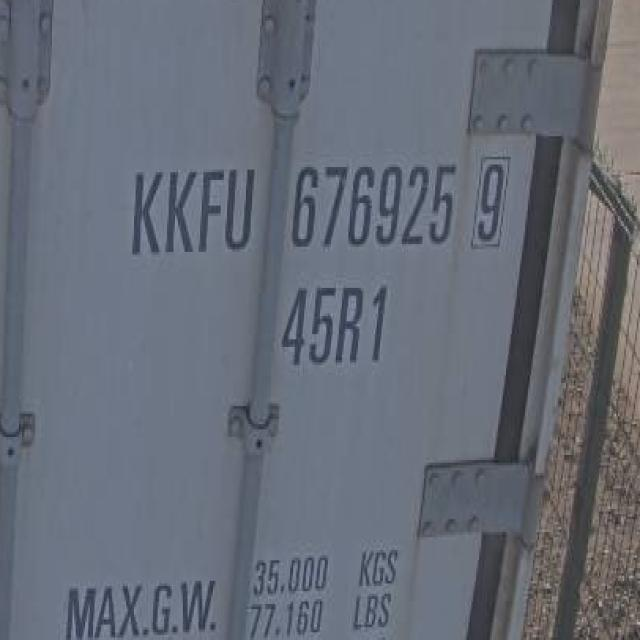dv: (469, 150, 517, 256)
owner: (124, 160, 261, 263)
serial: (282, 151, 457, 261)
size: (273, 273, 391, 373)
